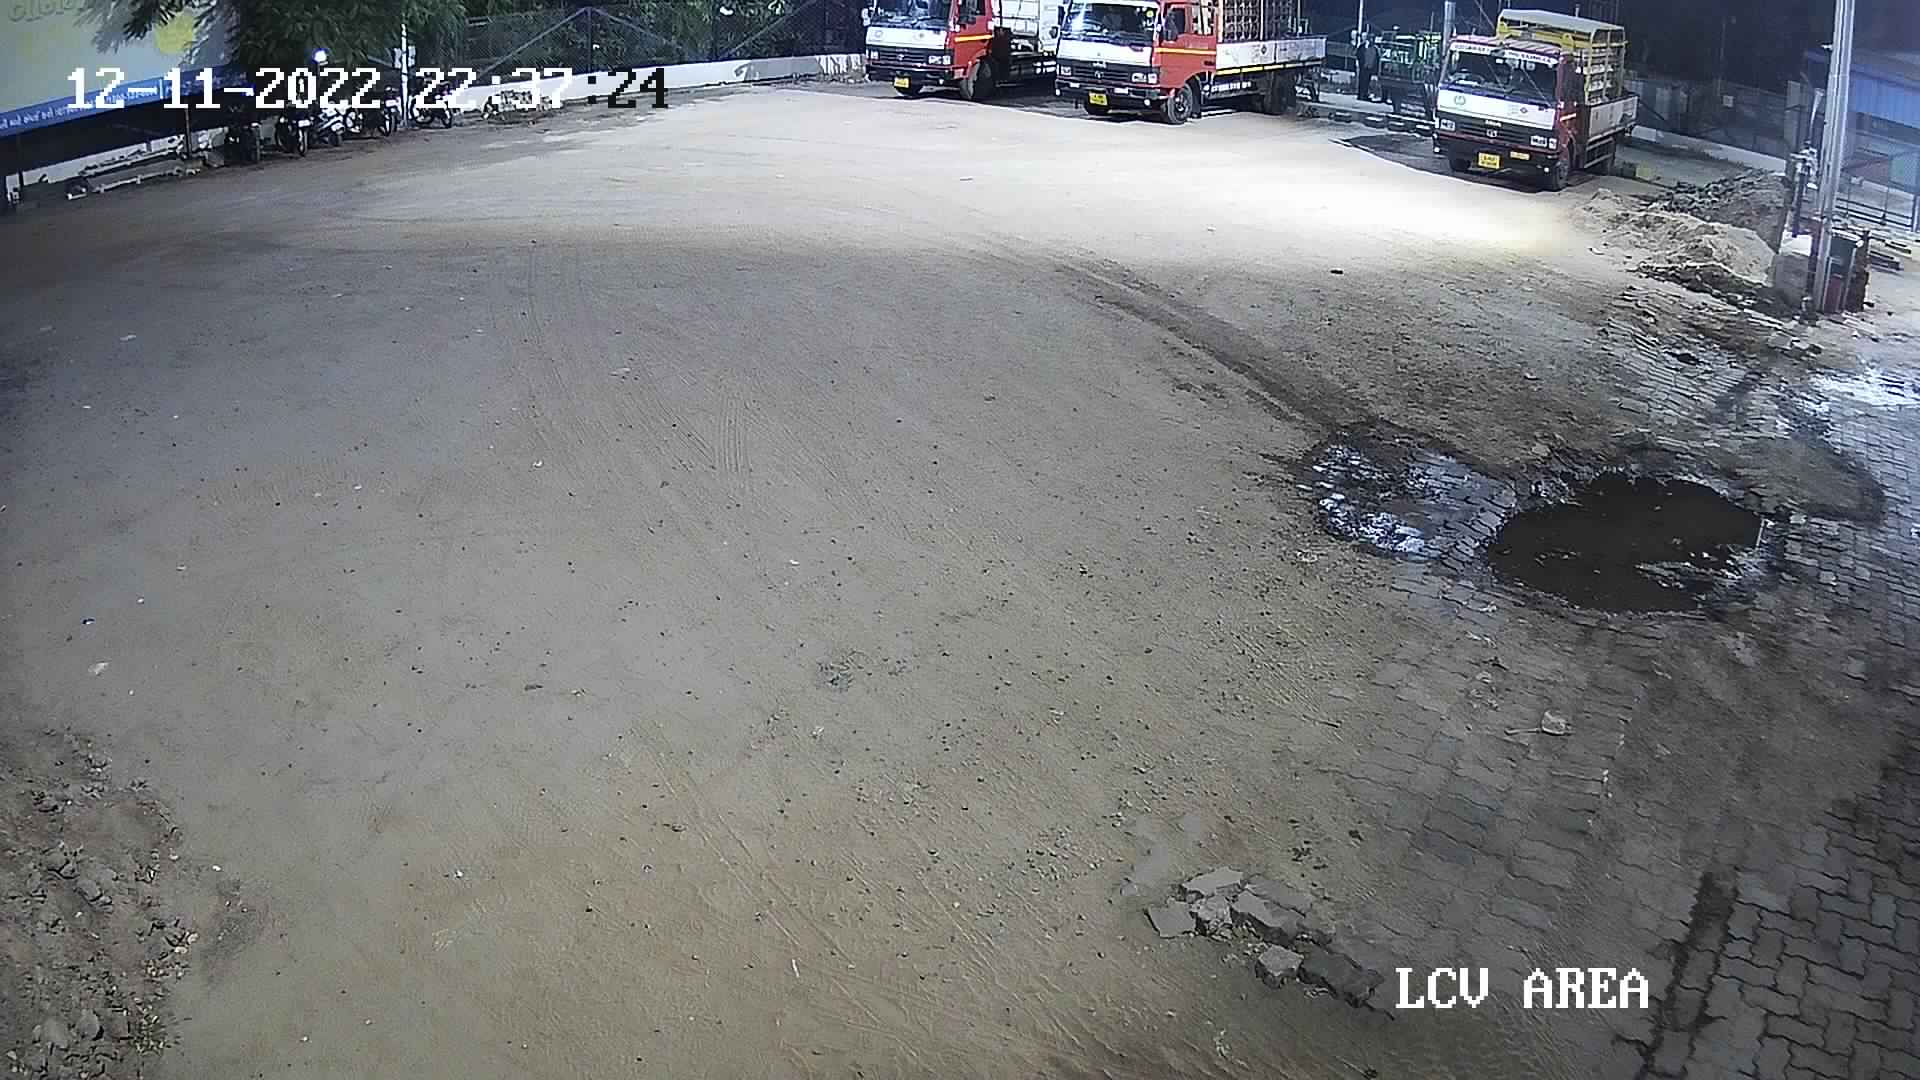HMV: (1416, 1, 1654, 191), (1044, 1, 1344, 127), (853, 0, 1076, 107)
